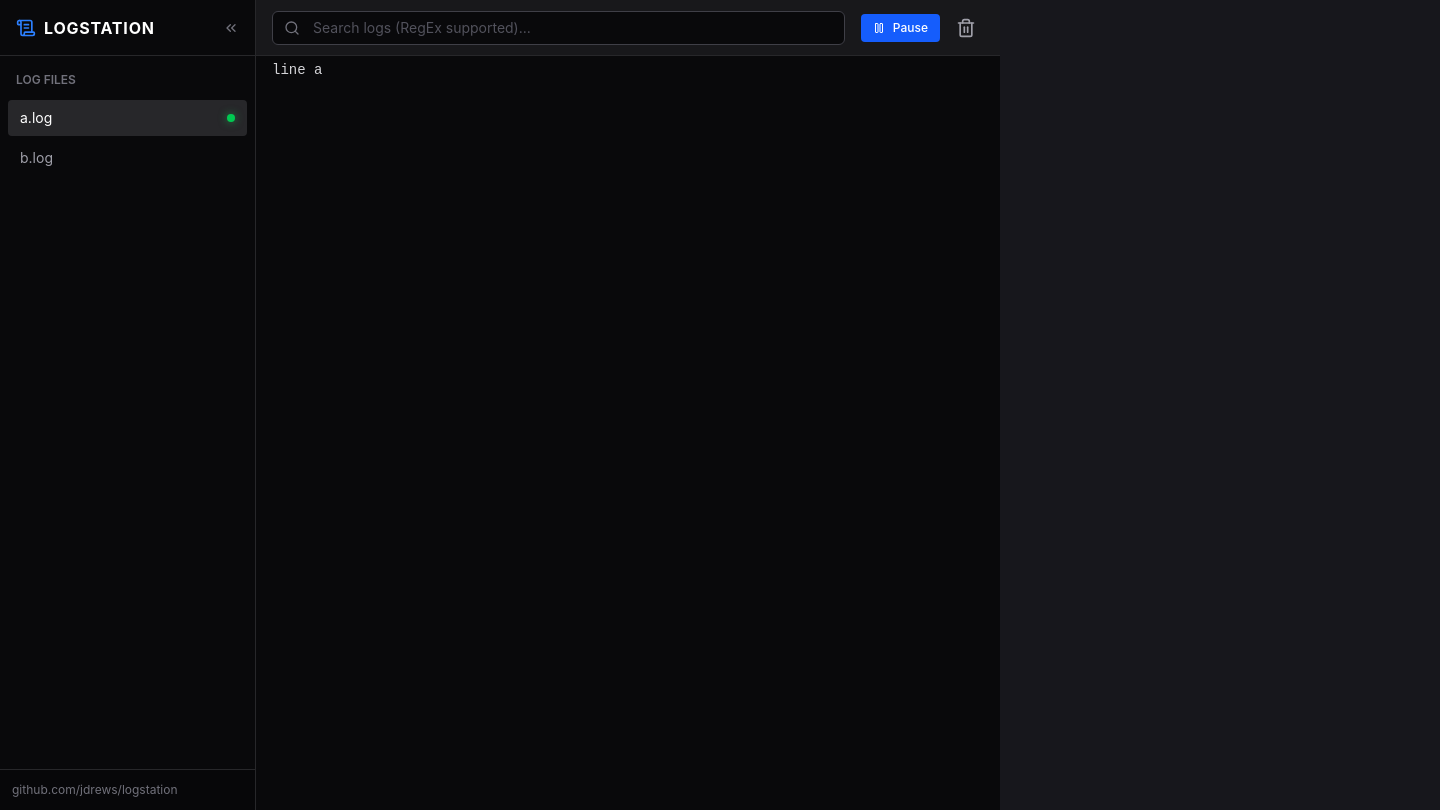
MainLayout › resumes tailing when switching log files while paused
Click the button titled "Pause Tailing".
click(900, 28)  # box [861,14,940,42]
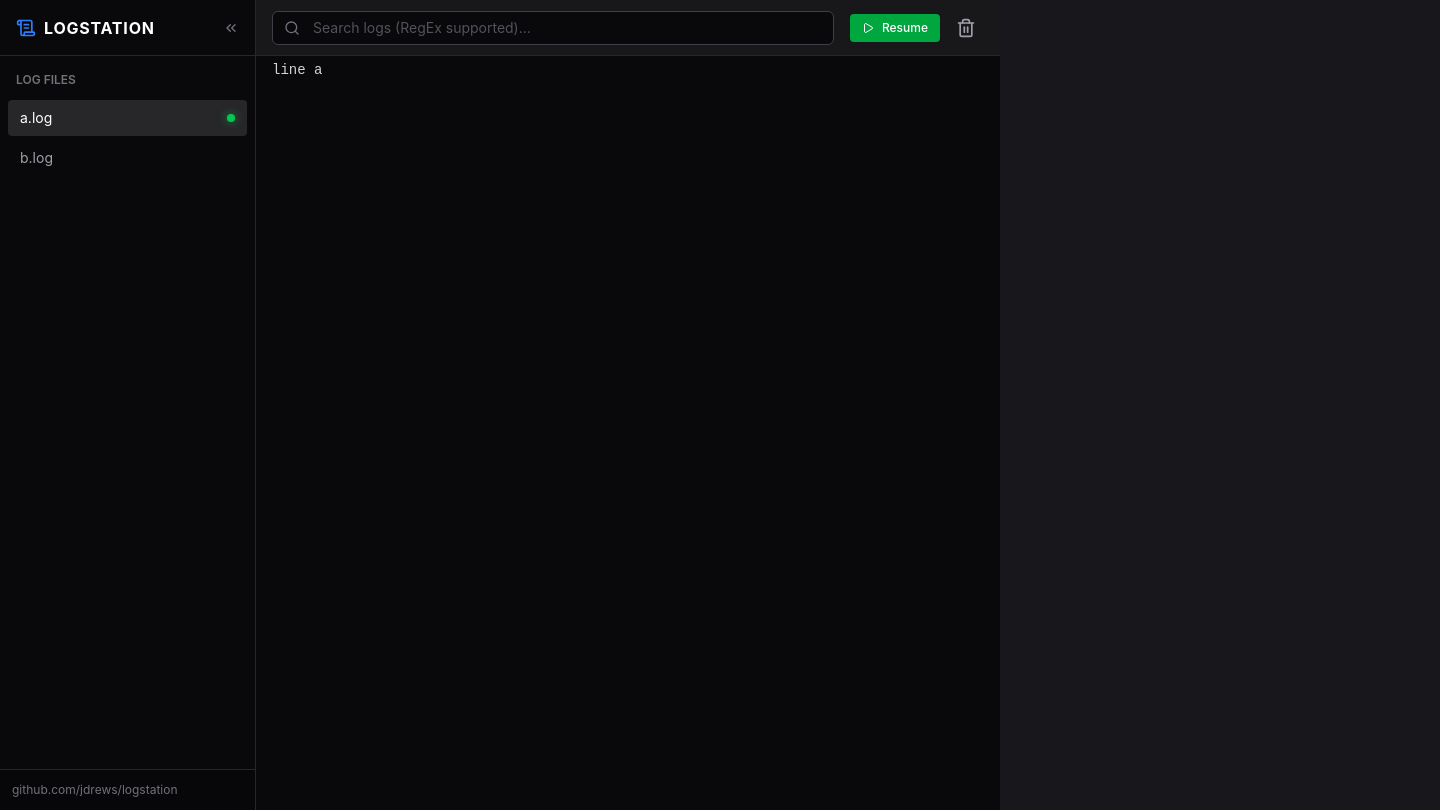
Result: the button titled "Resume Tailing" is shown at [850,14,940,42]
Click the button titled "b.log".
click(128, 158)  # box [8,140,247,176]
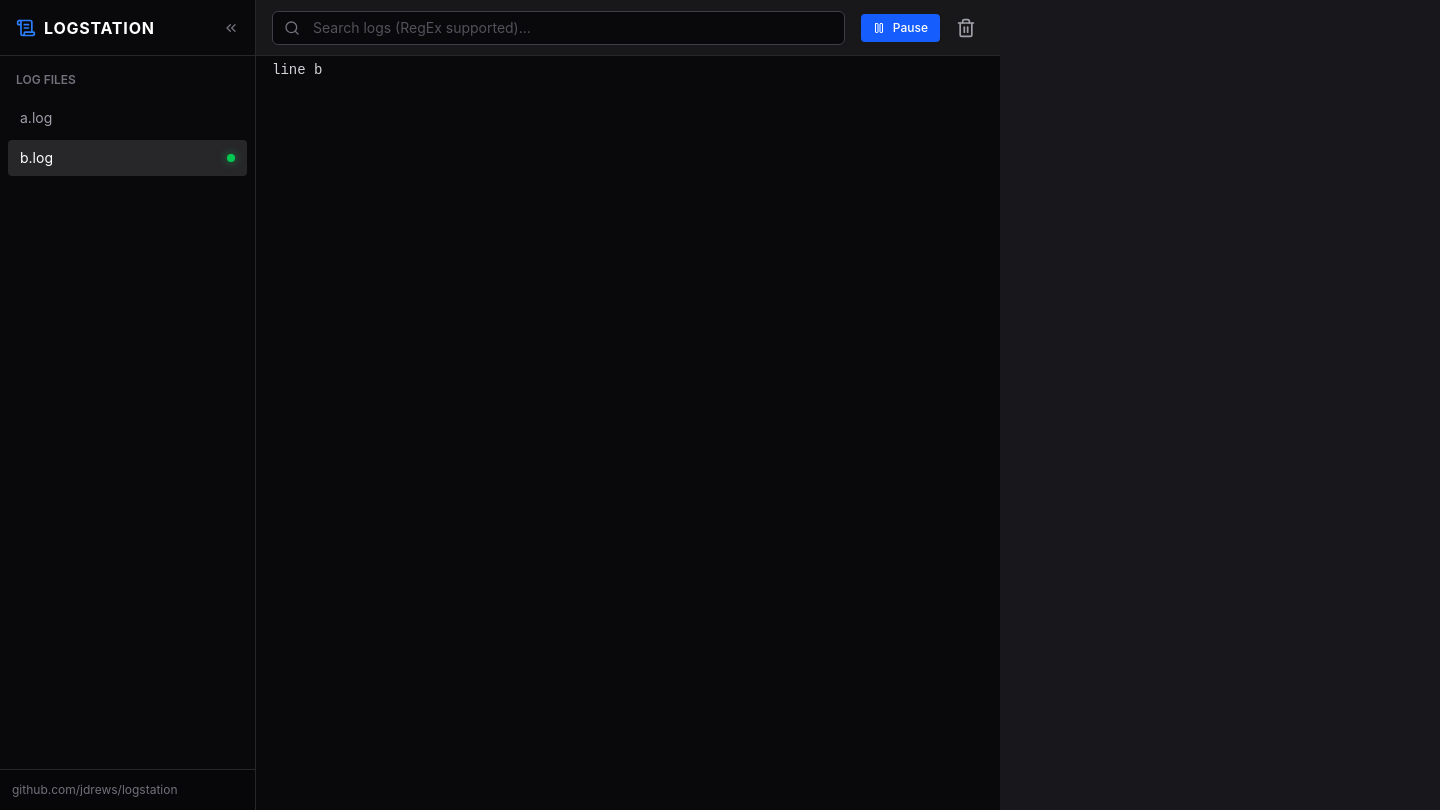
Result: the button titled "Pause Tailing" is shown at [861,14,940,42]
